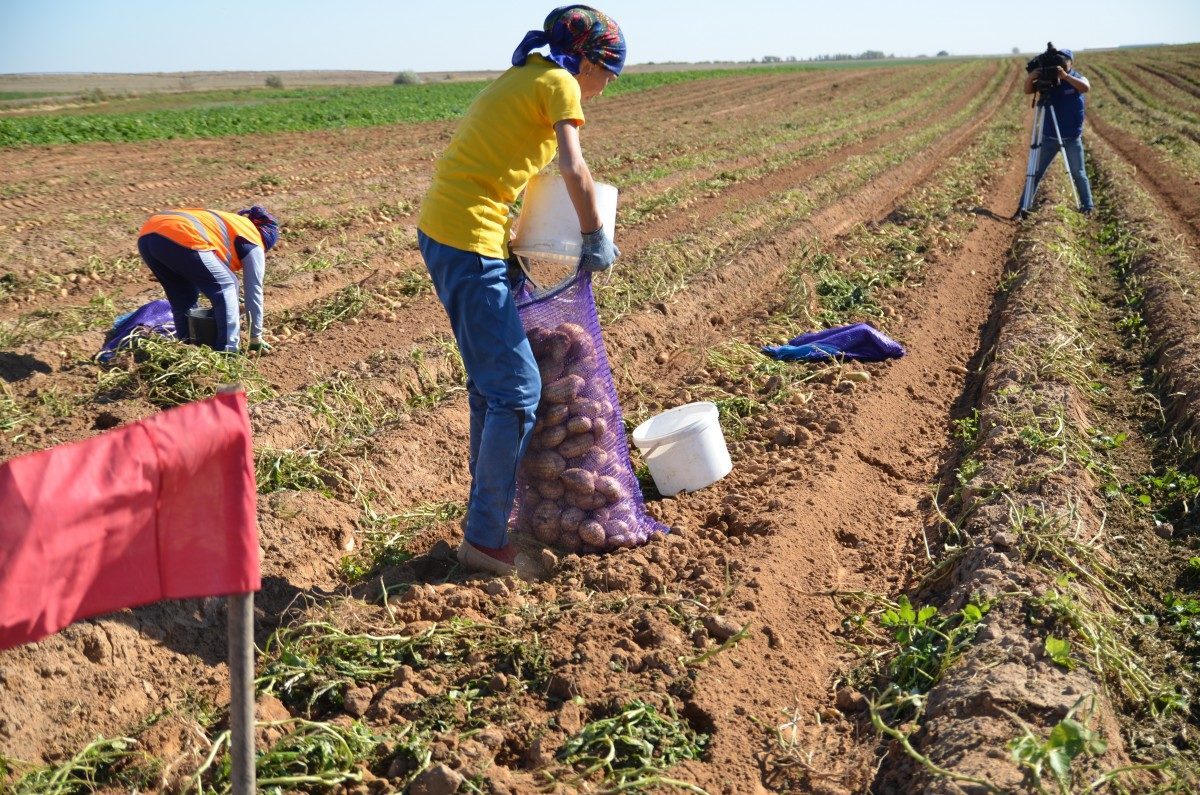person: (409, 7, 633, 562), (131, 203, 303, 363), (1010, 46, 1114, 219)
